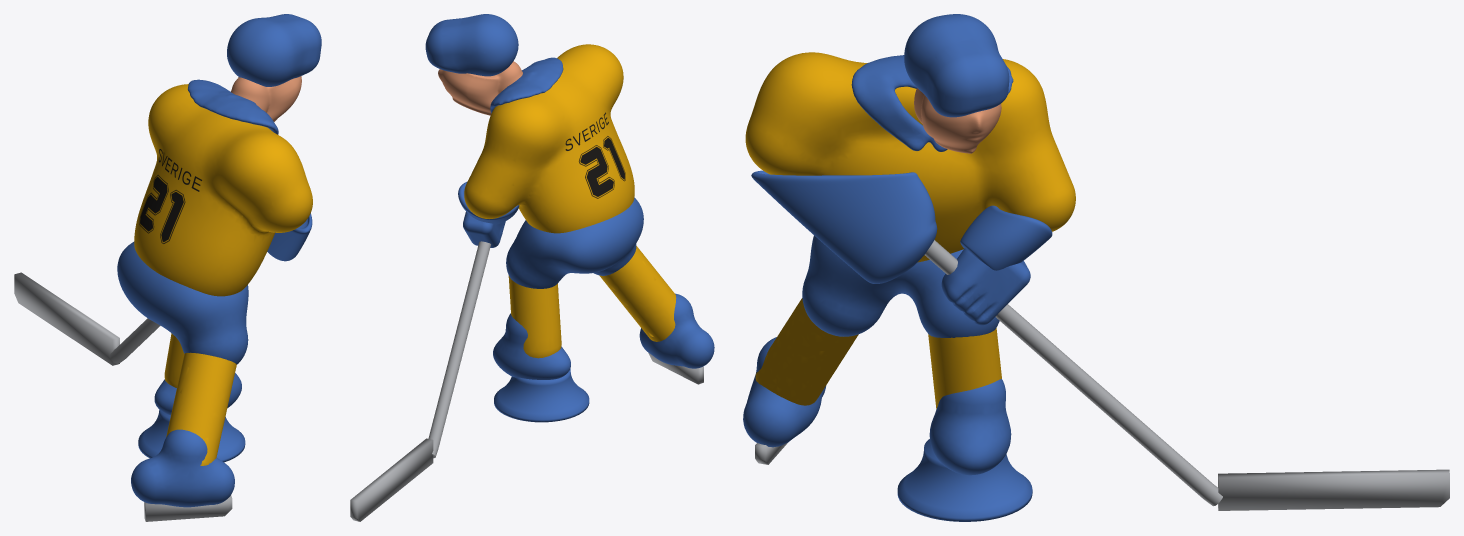
Rendered from skater_SWE.glb.
3 renders of one model, left to right at view 1: azimuth 30°, elevation 25°; view 2: azimuth 150°, elevation 25°; view 3: azimuth 270°, elevation 25°, orthographic. The views are drawn at different scales.
Visible parts, largest first — view 1: Skater.SWE, Print.skater.SWE; view 2: Skater.SWE, Print.skater.SWE; view 3: Skater.SWE.
Boxes of the visible parts, left/top/right/bottom form: Skater.SWE: left=14, top=14, right=321, bottom=521; Print.skater.SWE: left=139, top=149, right=201, bottom=243; Skater.SWE: left=350, top=14, right=714, bottom=521; Print.skater.SWE: left=565, top=112, right=625, bottom=198; Skater.SWE: left=743, top=14, right=1449, bottom=521.
Size of the model in its own units: 0.0326 by 0.0511 by 0.0634.
5 materials, 1 textured.
